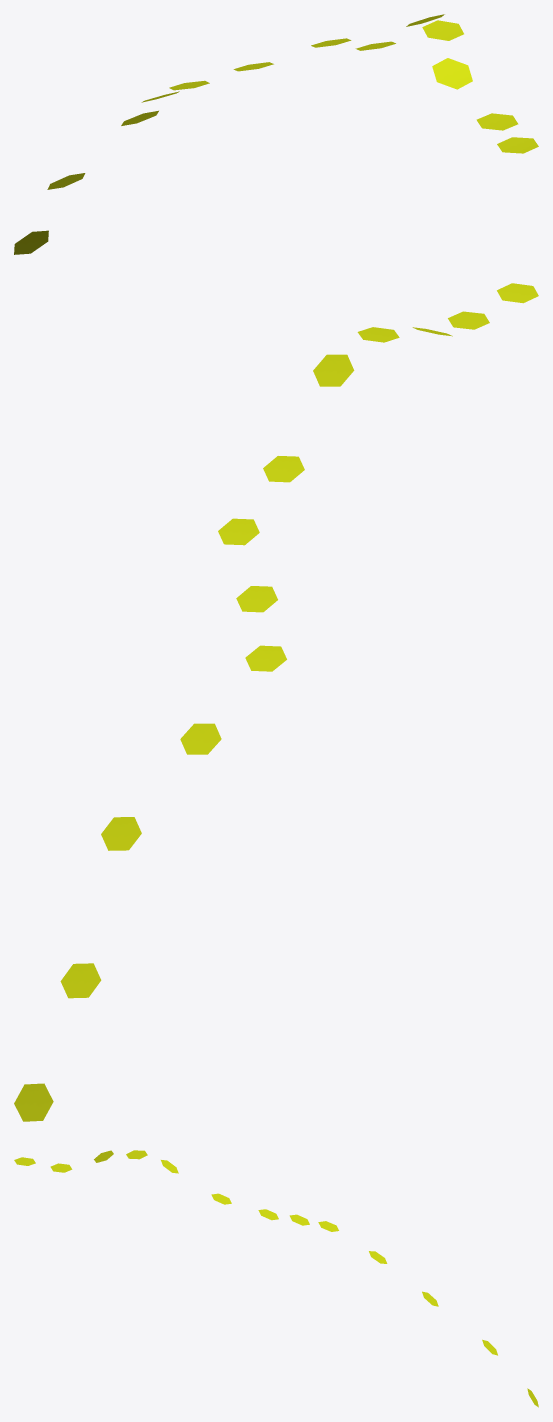
File: seg2LevelPoints.fbx
The picture shows the model from 3 angles, top to bottom: view 1: azimuth 30°, elevation 25°; view 2: azimuth 150°, elevation 25°; view 3: azimuth 270°, elevation 25°; orthographic projection. The views are drawn at different scales.
Parts seen in each view (by area): view 1: Cone061, Cone062, Cone072, Cone060, Cone059, Cone070; view 2: Cone072, Cone070, Cone069, Cone063, Cone068; view 3: no part large enough to name.
Boxes of the visible parts, left/top/right/bottom form: Cone061: left=432, top=58, right=472, bottom=89; Cone062: left=422, top=20, right=463, bottom=40; Cone072: left=14, top=230, right=48, bottom=254; Cone060: left=476, top=113, right=518, bottom=130; Cone059: left=497, top=137, right=538, bottom=153; Cone070: left=47, top=173, right=85, bottom=189; Cone072: left=14, top=1083, right=53, bottom=1121; Cone070: left=60, top=963, right=101, bottom=998; Cone069: left=101, top=817, right=141, bottom=850; Cone063: left=313, top=354, right=354, bottom=386; Cone068: left=180, top=723, right=221, bottom=754.
Size of the model in its own units: 12.54 by 49.32 by 89.85.
